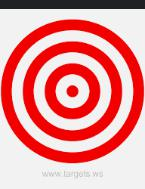bulls eye: (2, 19, 143, 164)
